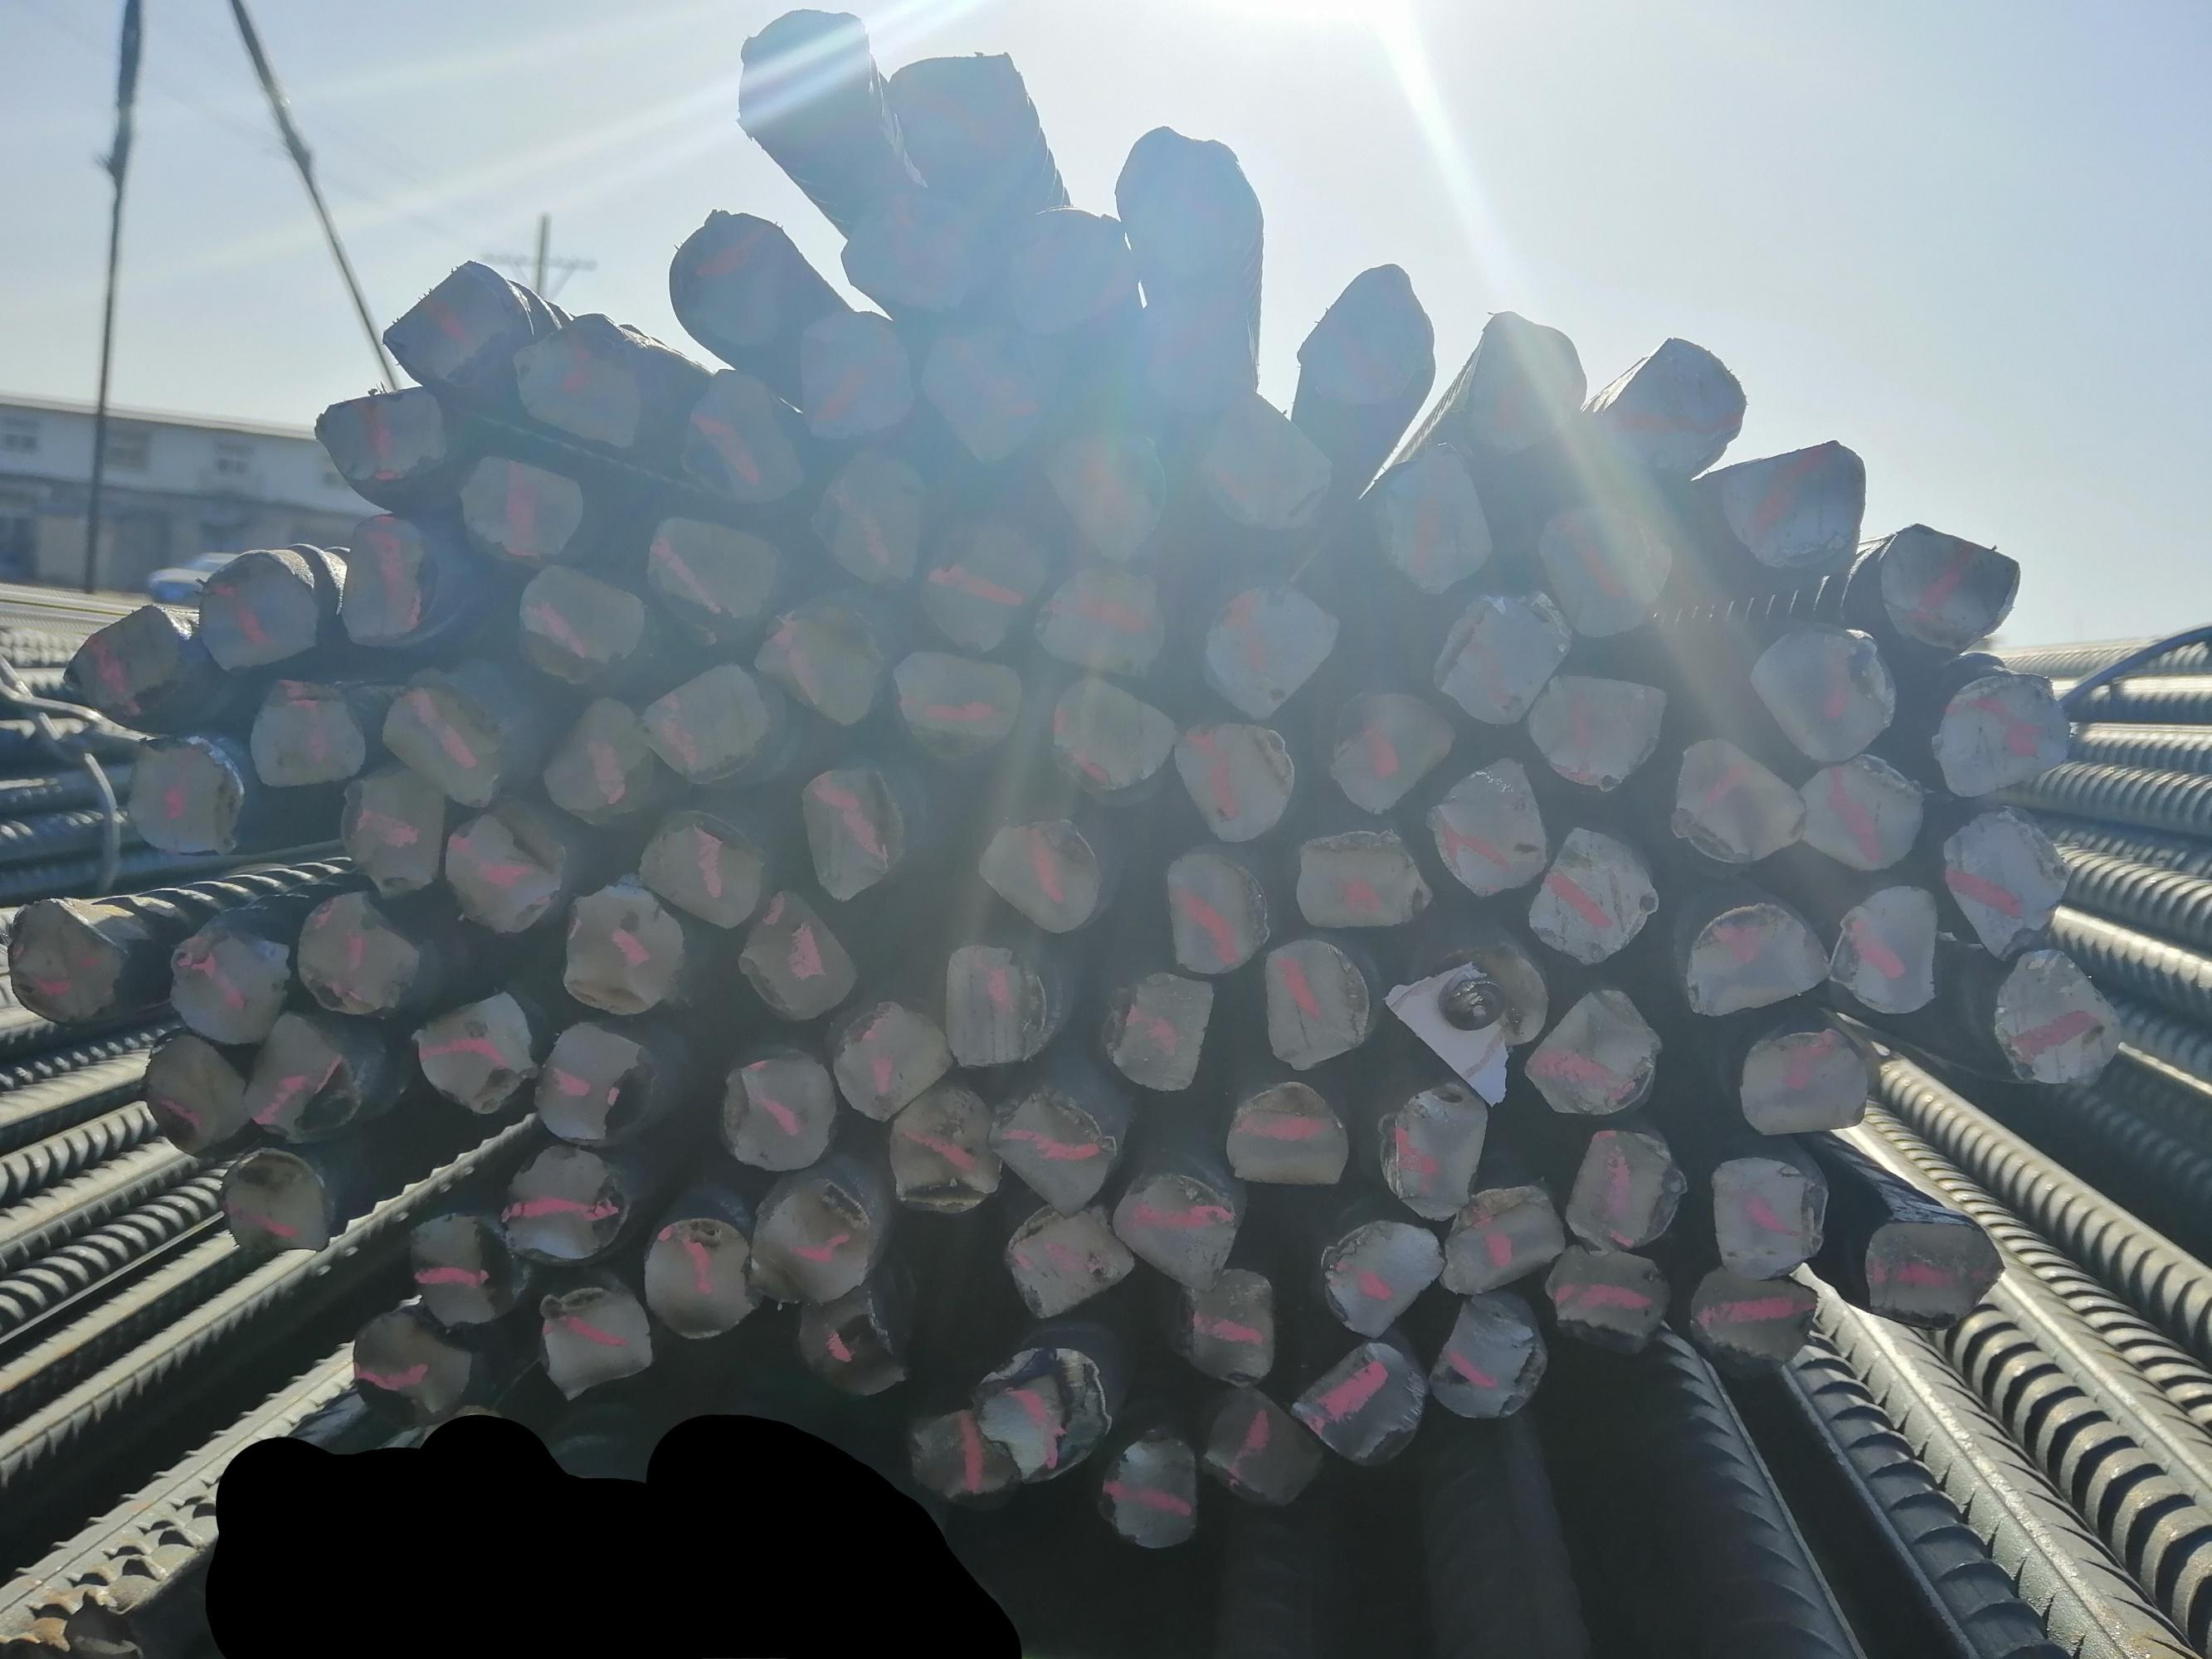bar: (1102, 122, 1267, 277), (1705, 427, 1872, 580), (1191, 565, 1349, 725), (1295, 256, 1438, 423), (1529, 495, 1675, 657), (1863, 514, 2027, 657), (1602, 324, 1748, 477), (920, 303, 1062, 457), (1750, 622, 1903, 763), (1517, 983, 1661, 1131), (732, 5, 875, 155), (375, 246, 528, 385), (1457, 303, 1590, 462), (664, 209, 809, 354), (1042, 422, 1185, 568), (1292, 1328, 1433, 1476), (678, 359, 809, 516), (436, 791, 577, 936), (1931, 807, 2071, 953), (964, 1342, 1112, 1480), (1367, 434, 1496, 591), (838, 178, 985, 315), (1121, 288, 1271, 422), (1196, 389, 1335, 532), (889, 44, 1035, 178), (1675, 890, 1827, 1019), (1858, 1208, 2012, 1335), (1431, 587, 1572, 725), (1001, 192, 1137, 335), (1663, 737, 1808, 871), (187, 544, 328, 680), (990, 1187, 1137, 1317), (1525, 821, 1659, 962), (967, 805, 1103, 943), (746, 1176, 882, 1314), (1701, 1147, 1837, 1284), (643, 507, 786, 638), (823, 985, 953, 1127), (1520, 666, 1668, 791), (284, 889, 422, 1023), (1999, 938, 2120, 1091), (1428, 751, 1553, 897), (518, 1019, 654, 1154), (558, 882, 687, 1021), (1931, 674, 2071, 803), (377, 667, 504, 809), (1191, 1382, 1332, 1509), (879, 1072, 1002, 1216), (1313, 1208, 1447, 1340), (162, 904, 286, 1047), (411, 985, 542, 1119), (917, 519, 1048, 653), (983, 1084, 1117, 1215), (1035, 552, 1171, 681), (1417, 1293, 1546, 1429), (1327, 687, 1457, 819), (521, 317, 647, 455), (753, 598, 884, 728), (1794, 748, 1923, 880), (713, 1040, 840, 1175), (1823, 882, 1947, 1019), (1103, 1159, 1241, 1283), (1684, 1262, 1822, 1385), (783, 310, 913, 439), (1260, 927, 1375, 1073), (335, 758, 457, 896), (345, 1312, 481, 1434), (1379, 1072, 1487, 1225), (1740, 1016, 1877, 1136), (303, 378, 444, 495), (66, 596, 192, 727), (3, 890, 122, 1028), (889, 640, 1028, 756), (798, 758, 912, 901), (633, 1216, 760, 1344), (1173, 718, 1299, 847), (736, 887, 858, 1019), (1044, 678, 1177, 800), (1290, 823, 1431, 936), (1093, 964, 1218, 1091), (403, 1213, 532, 1337), (811, 443, 922, 586), (535, 1274, 655, 1406), (502, 1136, 624, 1265), (640, 662, 769, 784), (457, 441, 587, 561), (1419, 934, 1550, 1054), (929, 936, 1041, 1075), (537, 692, 659, 819), (894, 1399, 1032, 1511), (242, 1002, 352, 1141), (514, 559, 645, 676), (1567, 1122, 1687, 1248), (1436, 1180, 1565, 1297), (1224, 1077, 1356, 1190), (124, 735, 246, 856), (246, 671, 368, 789), (1157, 847, 1272, 972), (213, 1154, 336, 1269), (1537, 1244, 1673, 1349), (640, 814, 769, 924), (1093, 1425, 1203, 1554), (793, 1276, 908, 1396), (134, 1030, 244, 1154), (345, 504, 436, 652), (1166, 1269, 1283, 1382)
